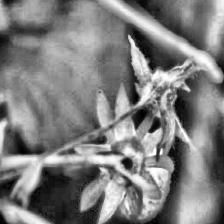Gray Mold: (126, 34, 208, 162)
